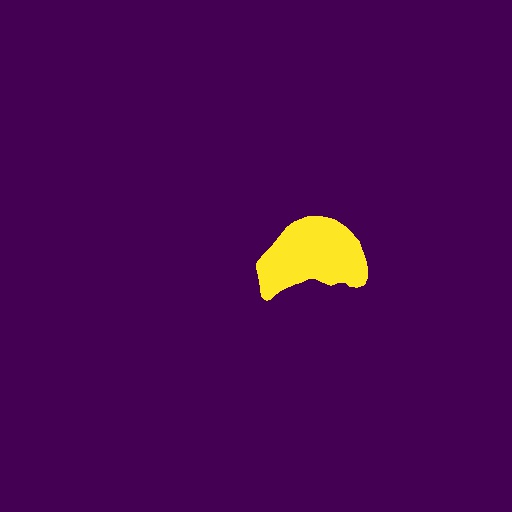Gliomia_tumour: (256, 216, 368, 301)
